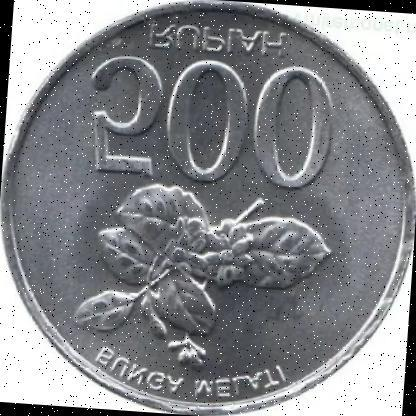coin_500_e2003: (5, 0, 416, 416)
